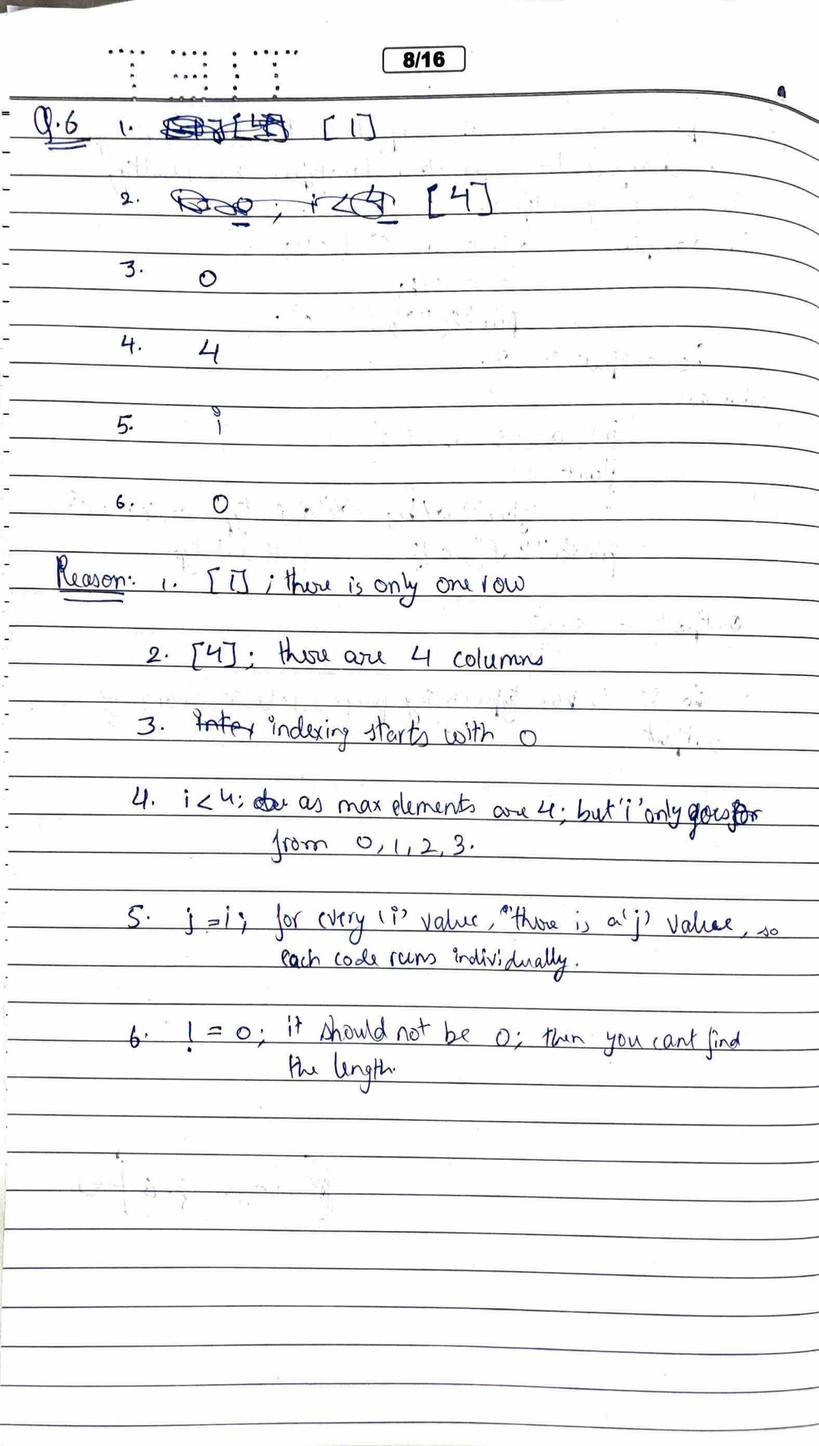cuttings: (169, 182, 396, 225), (159, 112, 290, 146), (192, 708, 255, 740), (725, 798, 763, 835), (253, 787, 288, 812)
